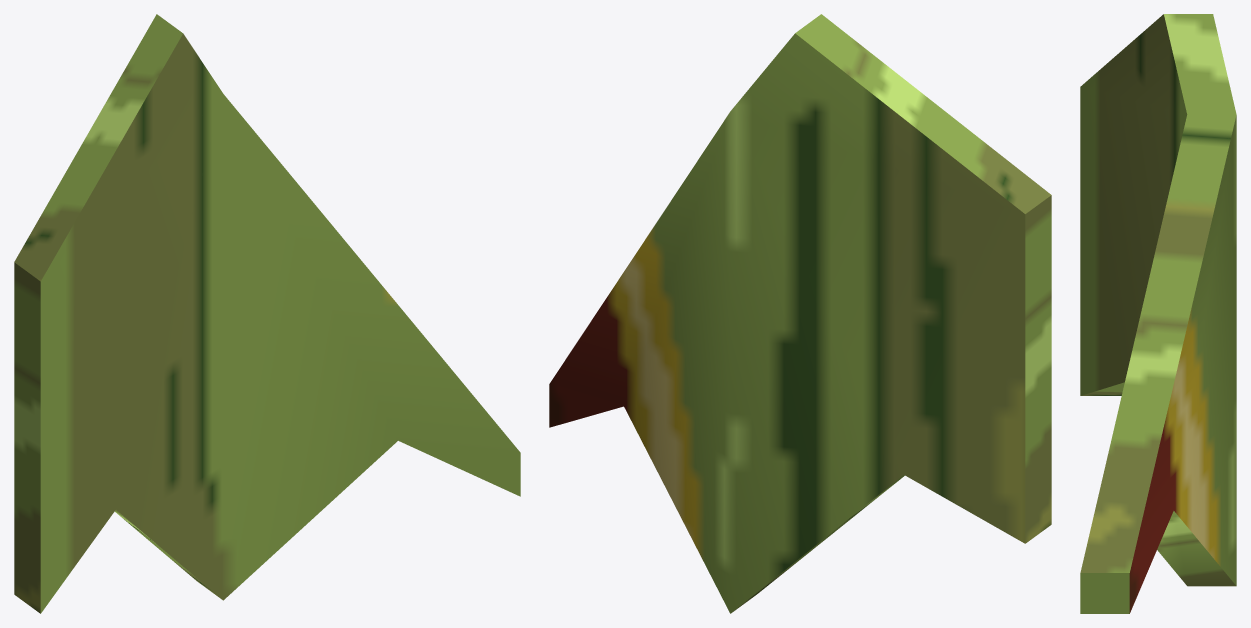
File: b_gib_04.glb
3 views of the same model, side by side, from view 1: azimuth 30°, elevation 25°; view 2: azimuth 150°, elevation 25°; view 3: azimuth 270°, elevation 25° (orthographic). The views are drawn at different scales.
Parts seen in each view (by area): view 1: gib#01; view 2: gib#01; view 3: gib#01.
Boxes of the visible parts, box(x1,y1,x2,y2) form: gib#01: box(14, 14, 520, 613); gib#01: box(549, 14, 1051, 613); gib#01: box(1080, 14, 1236, 613).
Size of the model in its own units: 0.287 by 0.3367 by 0.0869.
Materials: 1 (1 with a texture image).
